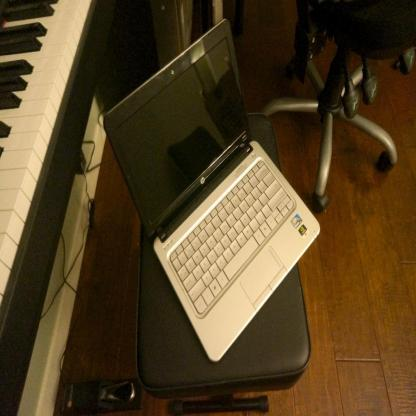board: (103, 18, 320, 361)
